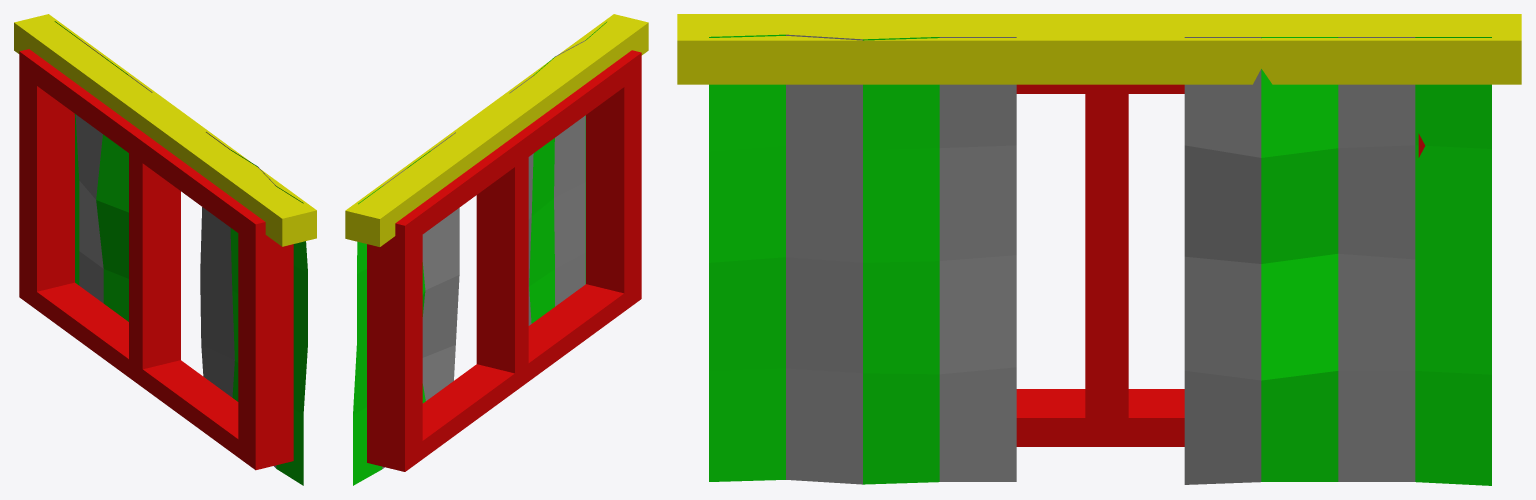
File: Big_Window.fbx
3 renders of one model, left to right at view 1: azimuth 30°, elevation 25°; view 2: azimuth 150°, elevation 25°; view 3: azimuth 270°, elevation 25°, orthographic. The views are drawn at different scales.
Visible parts, largest first — view 1: pCube151; view 2: pCube151; view 3: pCube151.
Part boxes in pixels (x1,y1,x2,y2): pCube151: (14, 14, 316, 485); pCube151: (345, 14, 648, 485); pCube151: (677, 14, 1521, 485).
Size of the model in its own units: 27.27 by 137 by 235.
